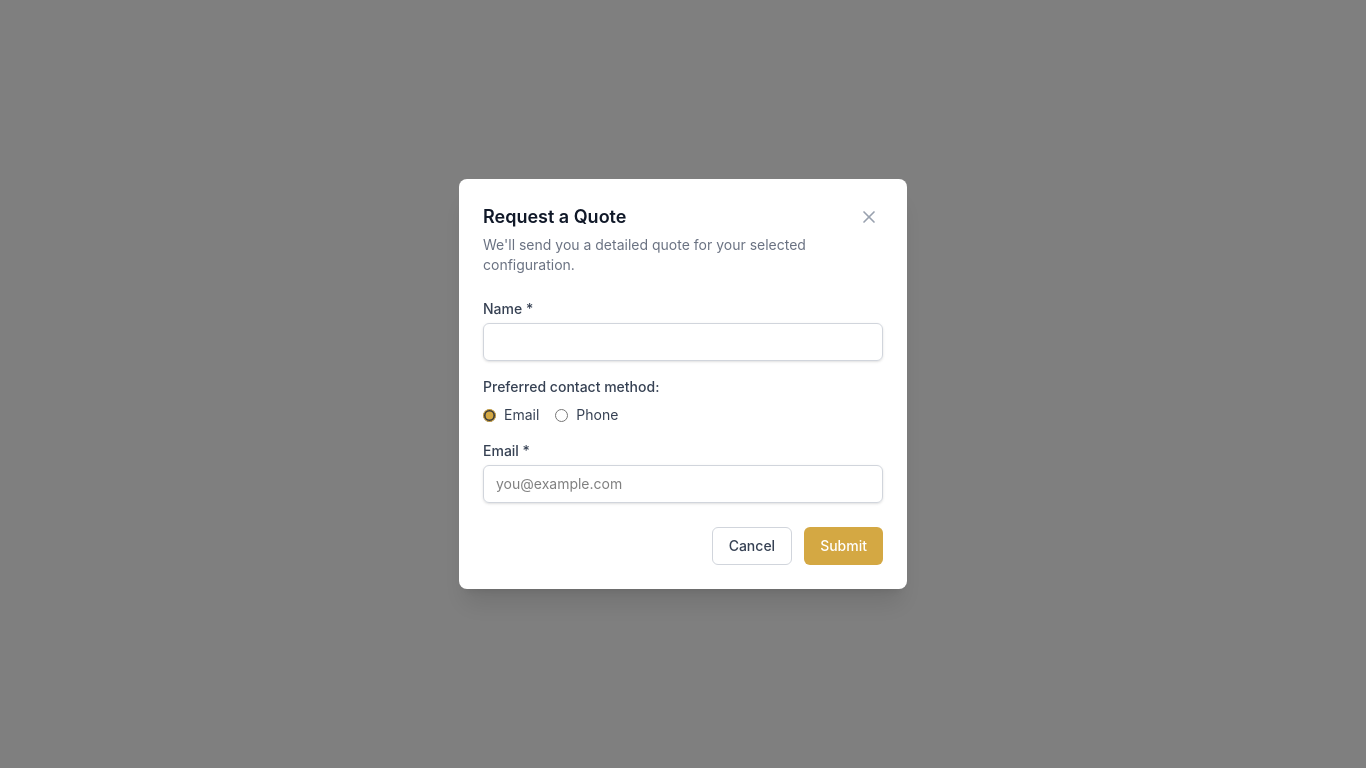
it: ContactModal › validates email format
The width and height of the screenshot is (1366, 768).
In the field labelled "Name *": (683, 342) 483,323 -> 883,361, type "John"
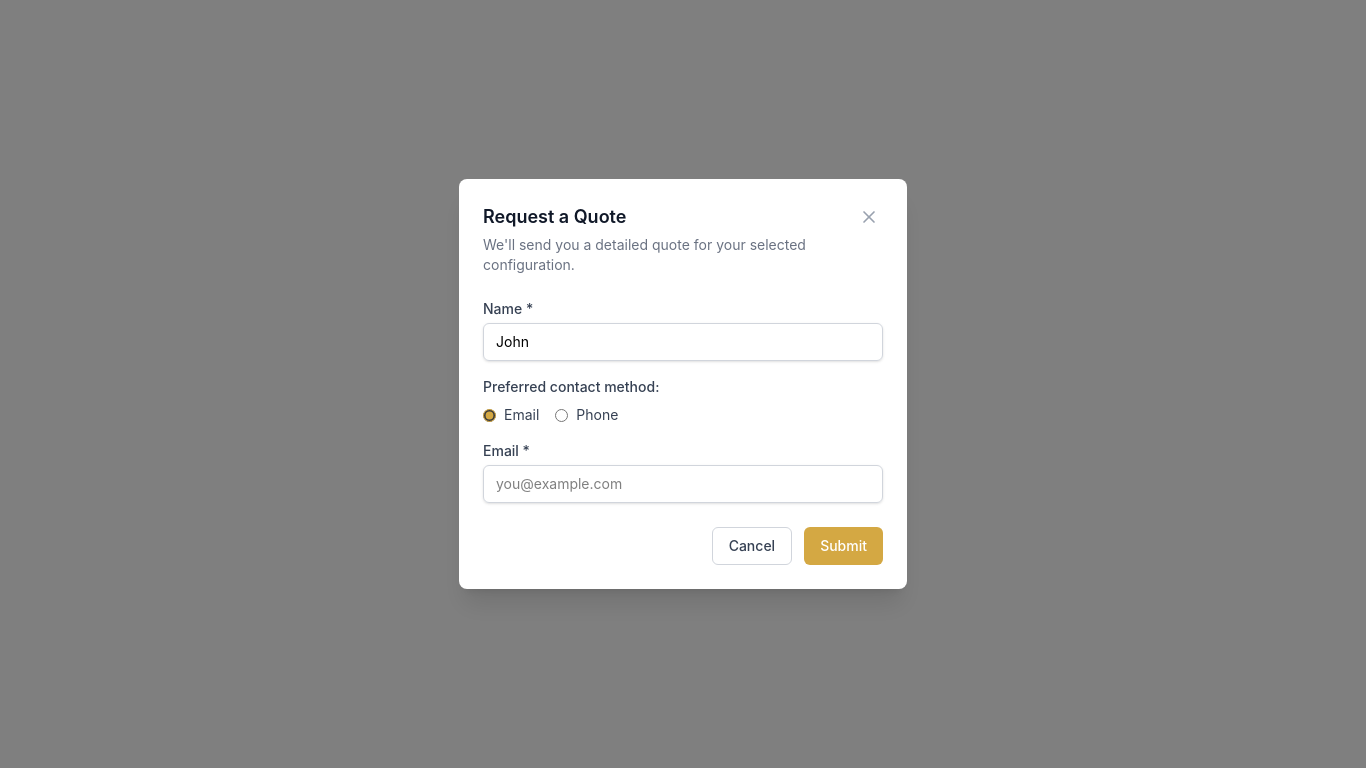
In the field labelled "Email *": (683, 484) 483,465 -> 883,503, type "not-an-email"
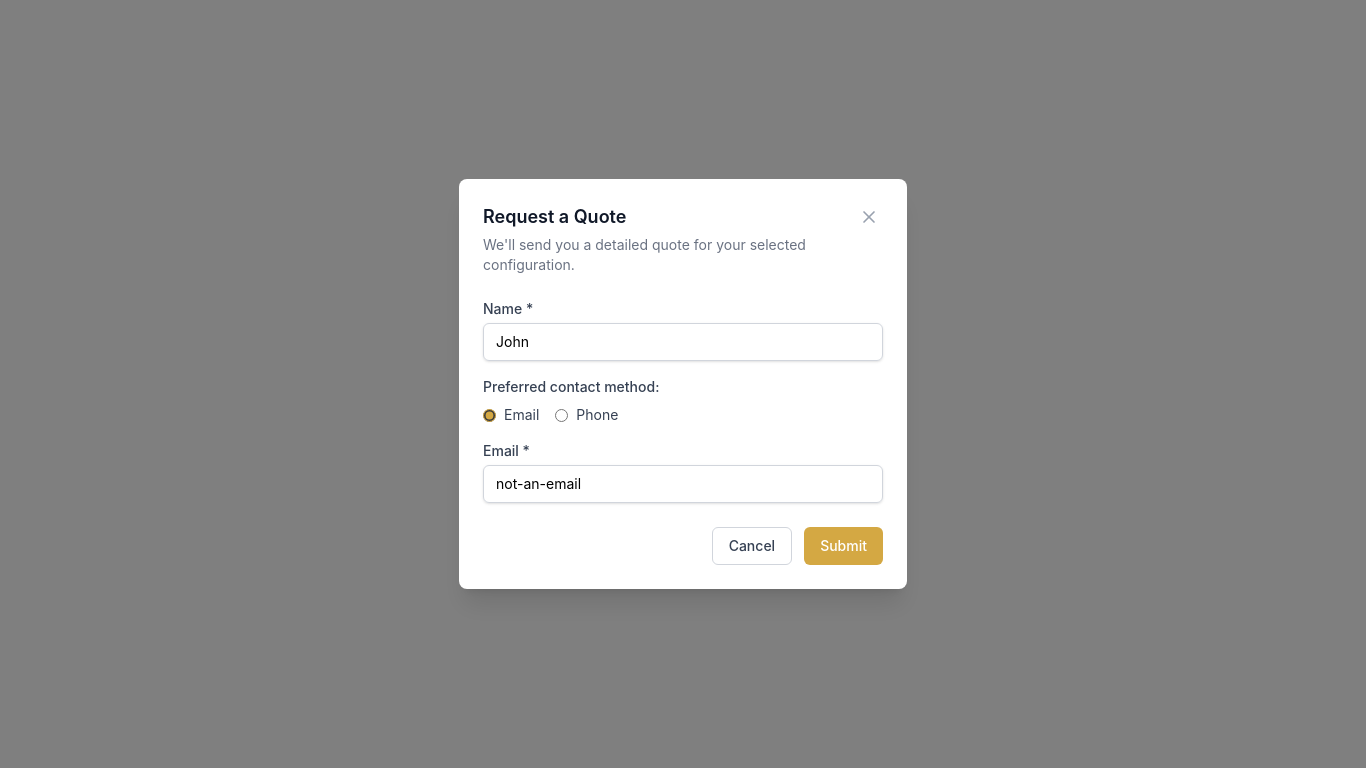
Click the button "Submit": (844, 546) 804,527 -> 883,565
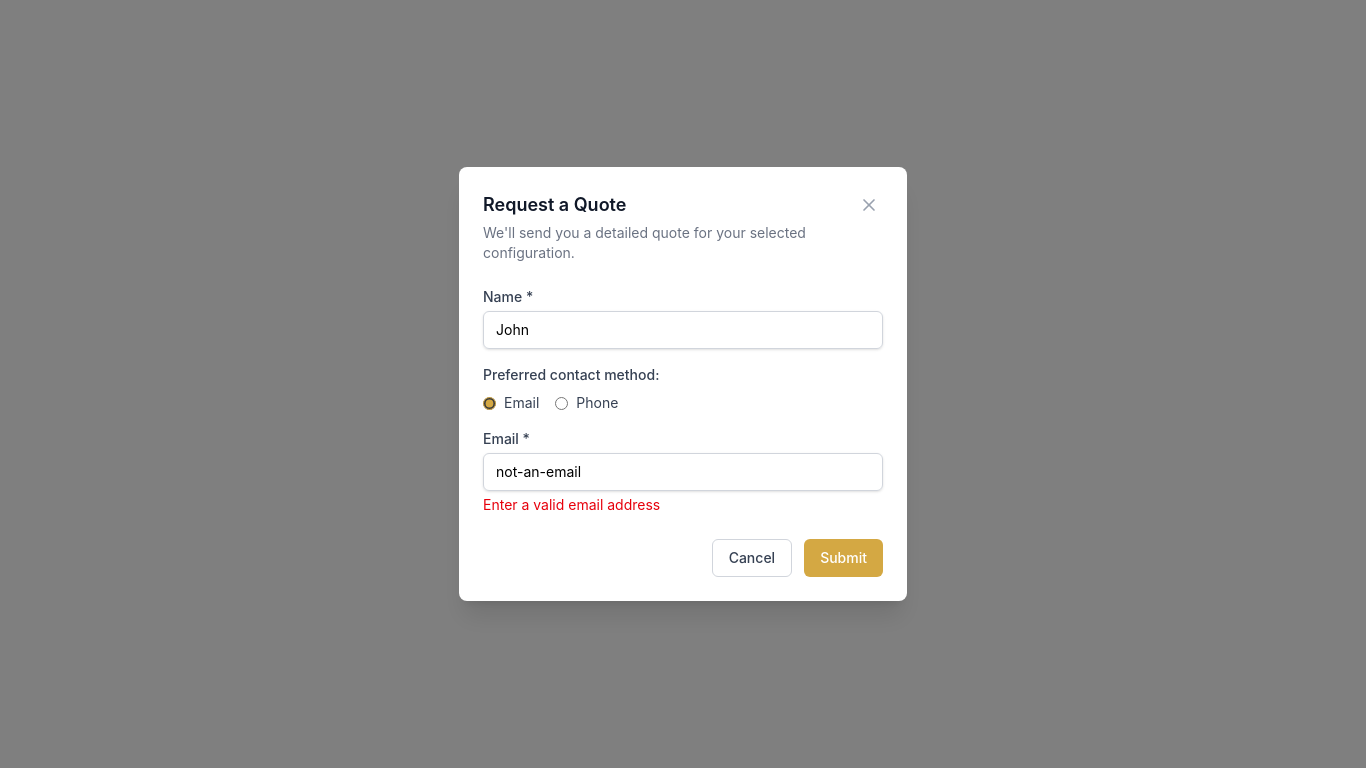
Expected: the text "Enter a valid email address" is shown, 483,496 -> 660,513
